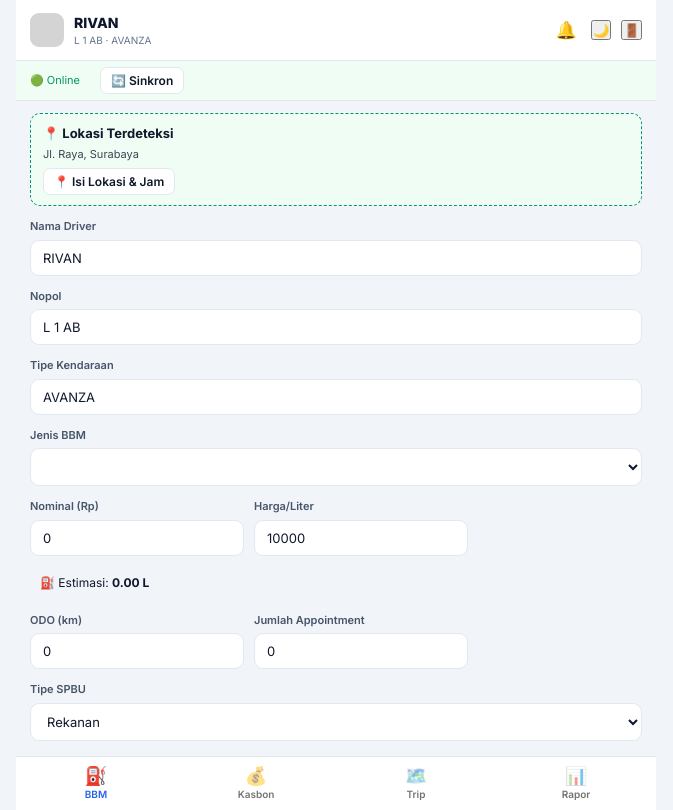
DriverView › switch tab ke Kasbon menampilkan form pengajuan & tombol sinkron tetap ada
Click the button with class "d-nav-item" showing "💰 Kasbon" at x=256, y=784, box x1=176 y1=757 x2=336 y2=809
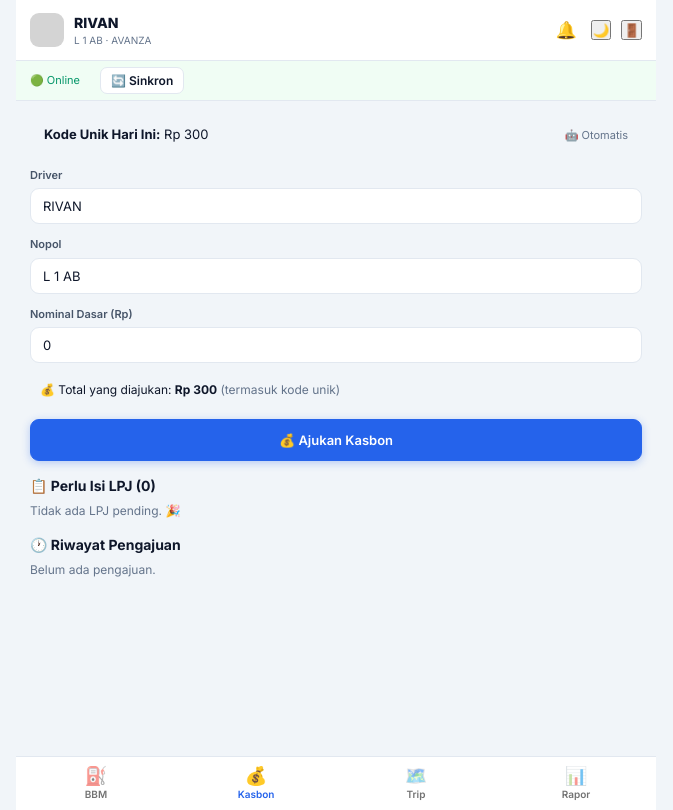
Expected: the text "Sinkron" is shown, x1=100 y1=67 x2=184 y2=94
Result: the text "Ajukan Kasbon" is shown at x1=30 y1=419 x2=642 y2=461
